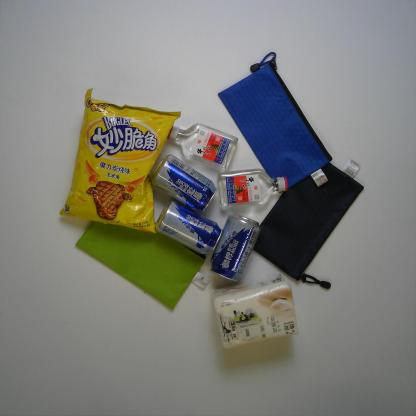Alcohol: (150, 155, 218, 212), (154, 199, 223, 254), (210, 214, 260, 282), (166, 124, 238, 171), (219, 168, 289, 210)
Puffed Food: (59, 89, 180, 233)
Stationery: (73, 187, 215, 311), (242, 149, 364, 289), (218, 51, 333, 193)
Tissue: (212, 275, 300, 349)
